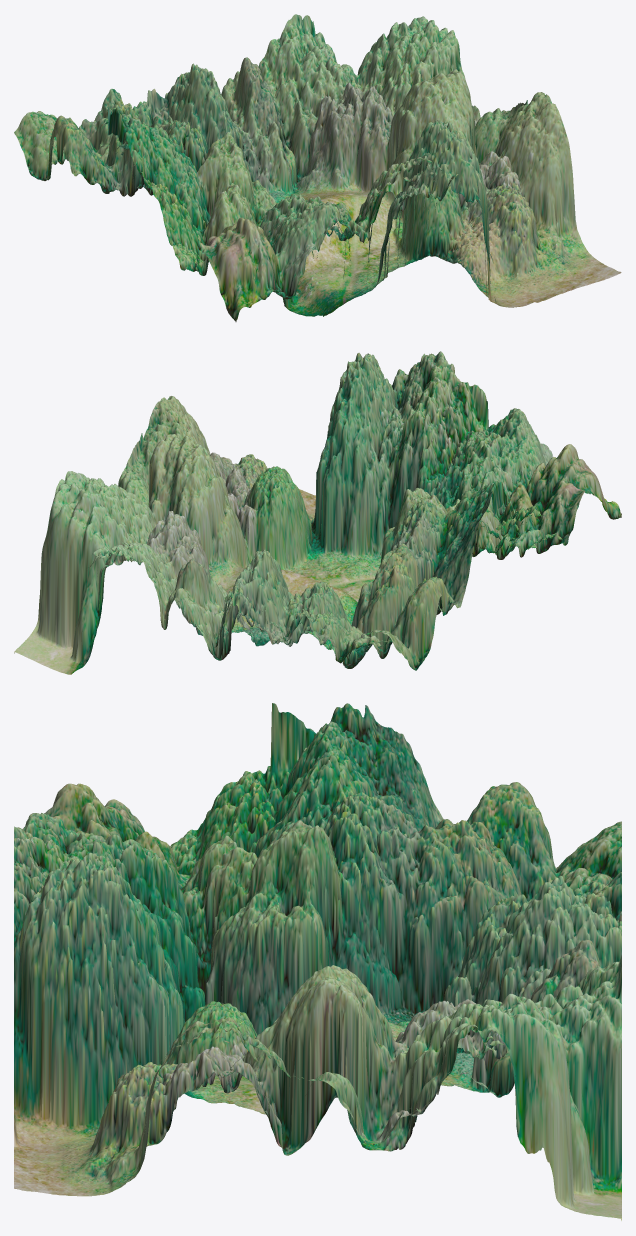
Rendered from dsm_4fb18de966_mesh.glb.
3 views of the same model, one above another, from view 1: azimuth 30°, elevation 25°; view 2: azimuth 150°, elevation 25°; view 3: azimuth 270°, elevation 25° (orthographic). The views are drawn at different scales.
Parts seen in each view (by area): view 1: geometry_0; view 2: geometry_0; view 3: geometry_0.
Boxes of the visible parts, x1,y1,x2,y2 form: geometry_0: (14, 14, 621, 321); geometry_0: (14, 351, 621, 674); geometry_0: (14, 703, 621, 1220).
Size of the model in its own units: 2 by 1 by 2.
